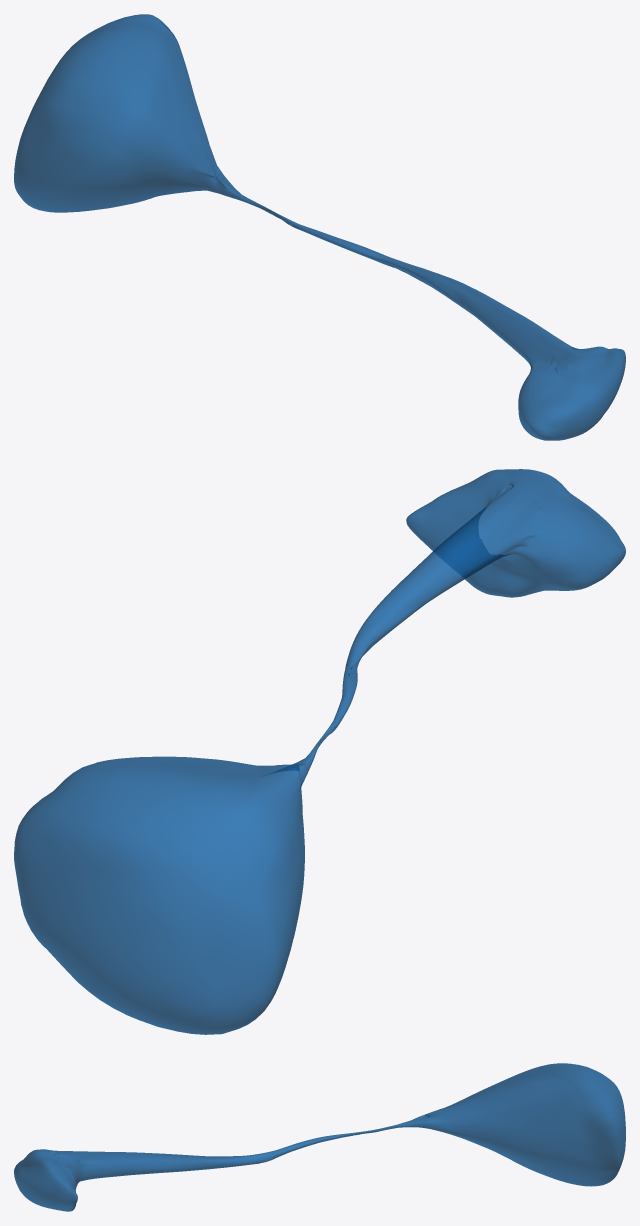
Rendered from spine-18-hr.obj.
3 renders of one model, top to bottom at view 1: azimuth 30°, elevation 25°; view 2: azimuth 150°, elevation 25°; view 3: azimuth 270°, elevation 25°, orthographic. The views are drawn at different scales.
Visible parts, largest first — view 1: spine-18-hr_Cube.183; view 2: spine-18-hr_Cube.183; view 3: spine-18-hr_Cube.183.
Boxes of the visible parts, x1=… form: spine-18-hr_Cube.183: x1=14, y1=14, x2=625, y2=440; spine-18-hr_Cube.183: x1=14, y1=469, x2=625, y2=1034; spine-18-hr_Cube.183: x1=14, y1=1063, x2=625, y2=1211.
Bounding box in the file's own units: 0.8068 × 0.5218 × 2.34.
